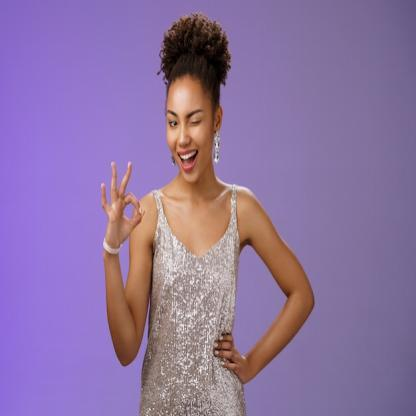ok: (95, 158, 147, 256)
